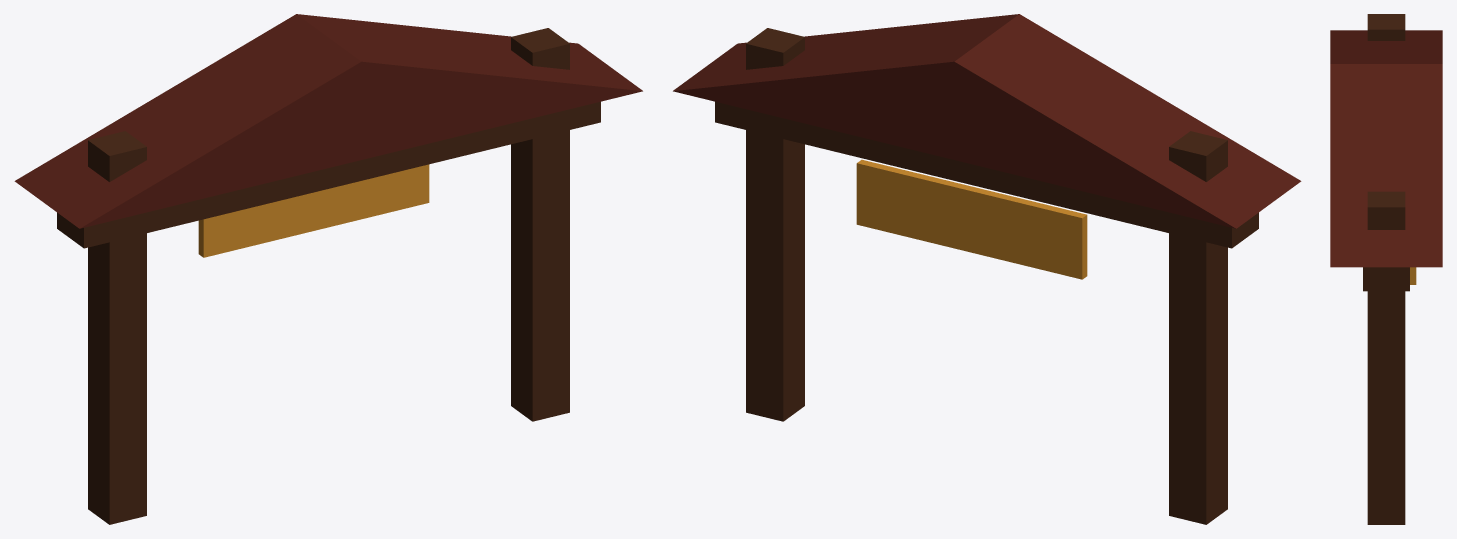
The model's file is gate.obj.
3 renders of one model, left to right at view 1: azimuth 30°, elevation 25°; view 2: azimuth 150°, elevation 25°; view 3: azimuth 270°, elevation 25°, orthographic. The views are drawn at different scales.
Visible parts, largest first — view 1: StoryWorld_Gate; view 2: StoryWorld_Gate; view 3: StoryWorld_Gate.
Boxes of the visible parts, x1,y1,x2,y2 form: StoryWorld_Gate: (14, 14, 642, 524); StoryWorld_Gate: (673, 14, 1301, 524); StoryWorld_Gate: (1330, 14, 1442, 524).
Bounding box in the file's own units: 12 × 8.6 × 2.4.
